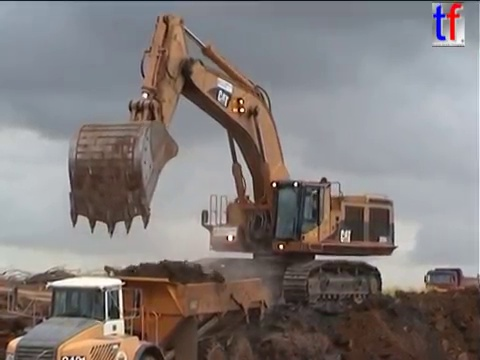excavator: (63, 10, 401, 317)
truck: (2, 271, 272, 360), (421, 266, 480, 304)
